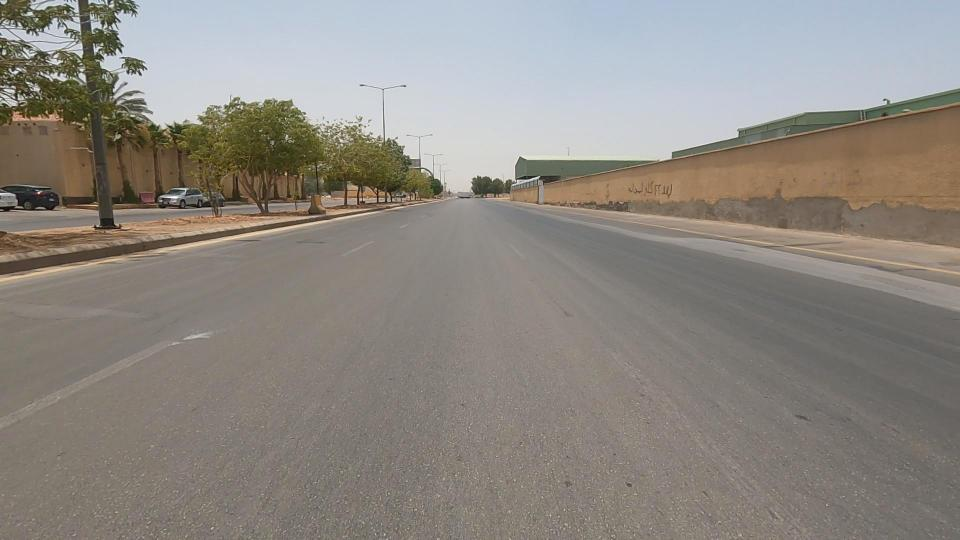GRAFFITI: (581, 166, 717, 217)
